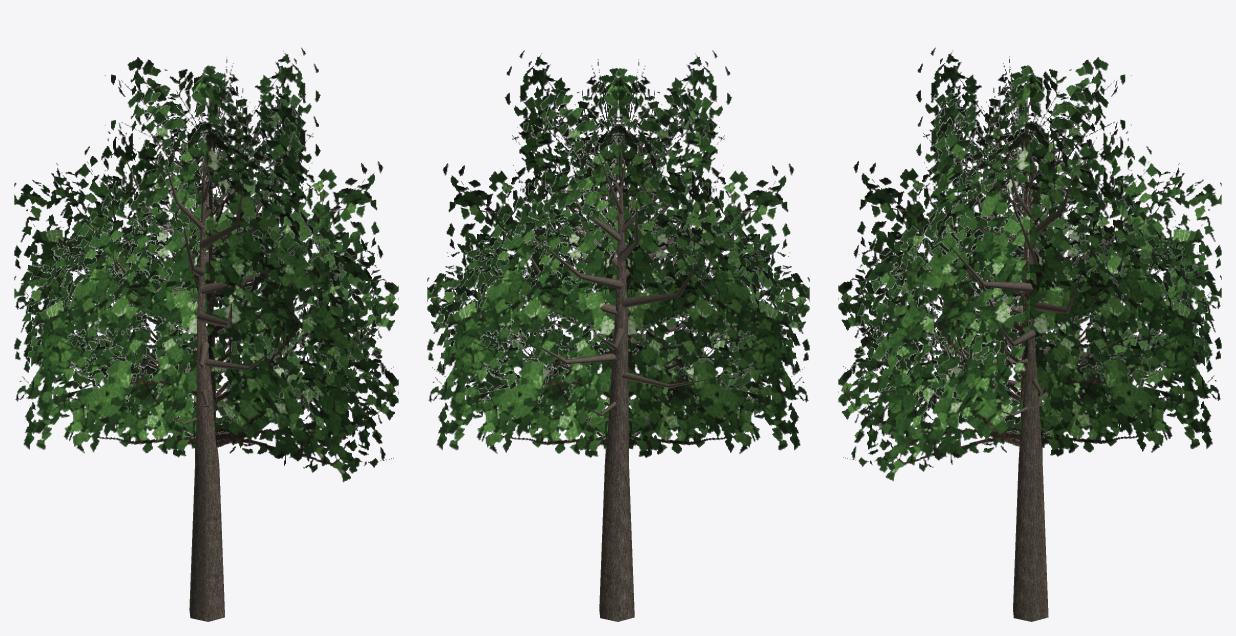
File: tree5.fbx
The picture shows the model from 3 angles, left to right: view 1: azimuth 30°, elevation 25°; view 2: azimuth 150°, elevation 25°; view 3: azimuth 270°, elevation 25°; orthographic projection.
Visible parts, largest first — view 1: Leaf3, Leaf5, Leaf6, Leaf2, Trunk; view 2: Leaf1, Leaf5, Leaf2, Leaf4, Trunk; view 3: Leaf3, Leaf1, Leaf6, Leaf4, Trunk.
Part boxes in pixels (x1,y1,x2,y2): Leaf3: (206,66,398,482); Leaf5: (14,67,206,457); Leaf6: (14,57,205,446); Leaf2: (206,47,398,434); Trunk: (96,124,304,621); Leaf1: (427,69,618,457); Leaf5: (618,70,809,457); Leaf2: (427,50,618,439); Leaf4: (618,50,809,439); Trunk: (517,136,710,621); Leaf3: (838,66,1029,481); Leaf1: (1030,67,1221,456); Leaf6: (1030,57,1221,445); Leaf4: (838,47,1029,433); Trunk: (922,141,1151,621).
Bounding box in the file's own units: 0.07 × 0.0983 × 0.0606.
2 materials, 2 textured.
